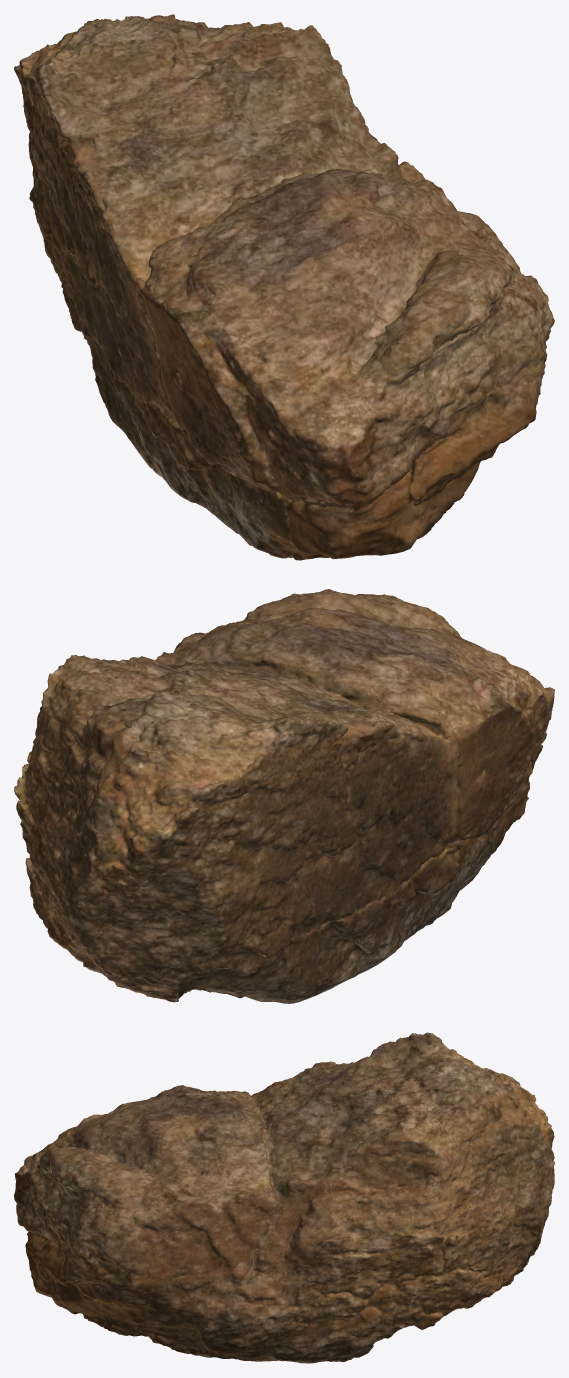
File: boulder_huge_low.glb
The picture shows the model from 3 angles, top to bottom: view 1: azimuth 30°, elevation 25°; view 2: azimuth 150°, elevation 25°; view 3: azimuth 270°, elevation 25°; orthographic projection. The views are drawn at different scales.
Parts seen in each view (by area): view 1: namaqualand_boulder_06; view 2: namaqualand_boulder_06; view 3: namaqualand_boulder_06.
Part boxes in pixels (x1,y1,x2,y2): namaqualand_boulder_06: (14,14,554,560); namaqualand_boulder_06: (14,589,554,1003); namaqualand_boulder_06: (14,1032,554,1363).
Size of the model in its own units: 0.675 by 0.6516 by 1.21.
Materials: 1 (1 with a texture image).
